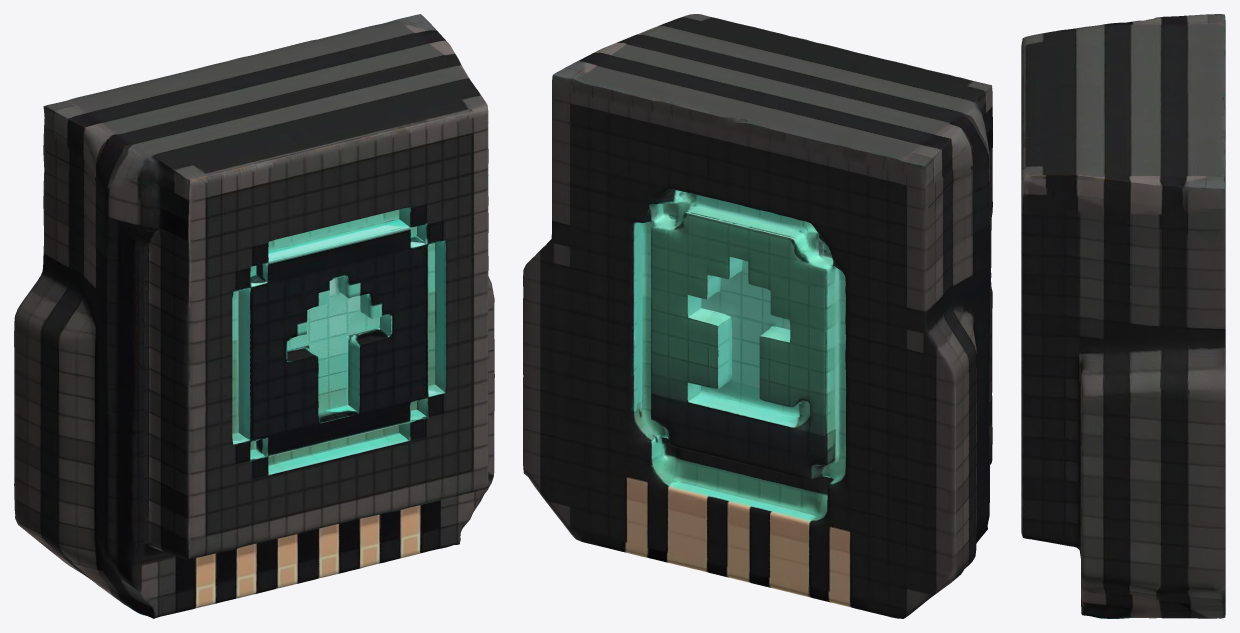
Rendered from Health Chip.glb.
3 renders of one model, left to right at view 1: azimuth 30°, elevation 25°; view 2: azimuth 150°, elevation 25°; view 3: azimuth 270°, elevation 25°, orthographic. The views are drawn at different scales.
Visible parts, largest first — view 1: Mesh_0; view 2: Mesh_0; view 3: Mesh_0.
Part boxes in pixels (x1,y1,x2,y2): Mesh_0: (14,14,494,618); Mesh_0: (523,14,992,618); Mesh_0: (1021,14,1225,618).
Bounding box in the file's own units: 1.86 × 1.91 × 0.7973.
Materials: 1 (1 with a texture image).
